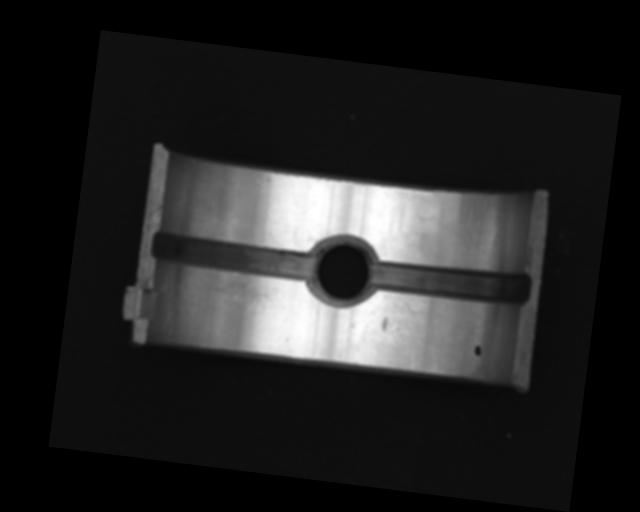blot: (473, 343, 482, 357)
bruise: (381, 315, 388, 331)
gap: (149, 230, 318, 284), (370, 257, 532, 308)
hole: (304, 230, 382, 312)
scratch: (177, 264, 282, 316)
